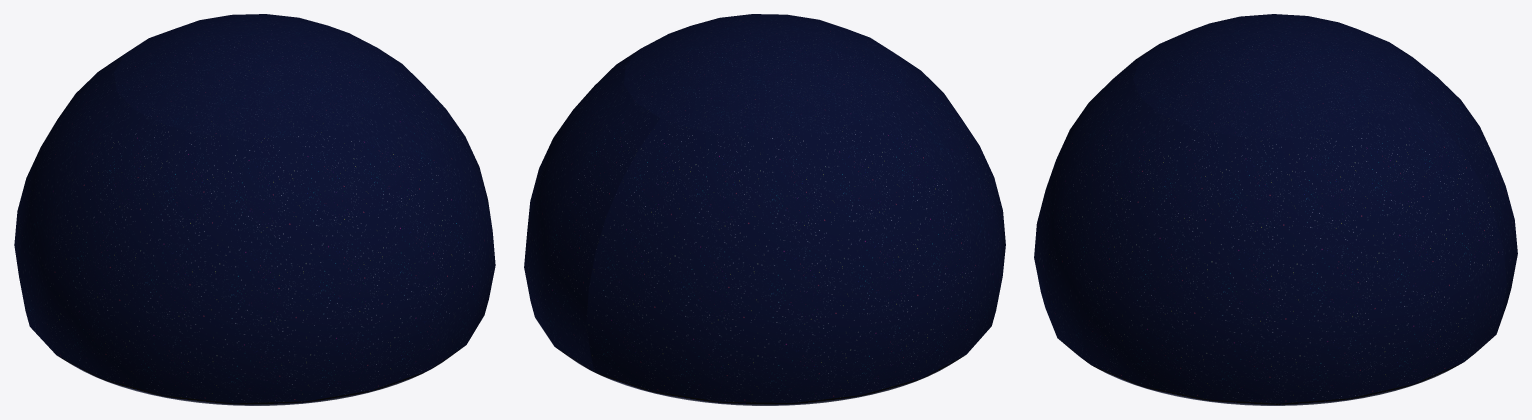
Rendered from RobustSky.fbx.
3 views of the same model, side by side, from view 1: azimuth 30°, elevation 25°; view 2: azimuth 150°, elevation 25°; view 3: azimuth 270°, elevation 25° (orthographic).
Parts seen in each view (by area): view 1: mesh-2.002, mesh-2.001; view 2: mesh-2.002, mesh-2.001; view 3: mesh-2.002, mesh-2.001.
Boxes of the visible parts, left/top/right/bottom form: mesh-2.002: left=14, top=14, right=495, bottom=403; mesh-2.001: left=59, top=348, right=461, bottom=405; mesh-2.002: left=524, top=14, right=1005, bottom=403; mesh-2.001: left=557, top=348, right=963, bottom=405; mesh-2.002: left=1034, top=14, right=1517, bottom=403; mesh-2.001: left=1061, top=339, right=1490, bottom=405.
Size of the model in its own units: 1.41e+08 by 8.88e+07 by 1.41e+08.
Materials: 3 (3 with a texture image).
